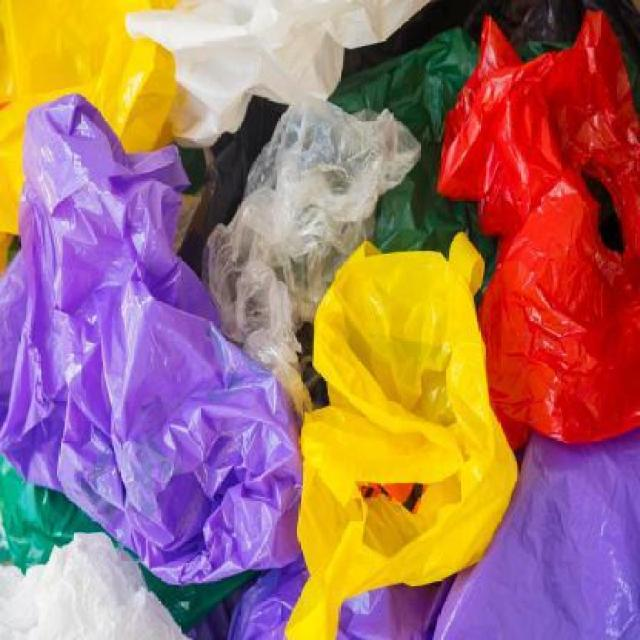plastic bag: (0, 98, 308, 598), (446, 28, 639, 455), (295, 234, 490, 613), (197, 103, 415, 329)
